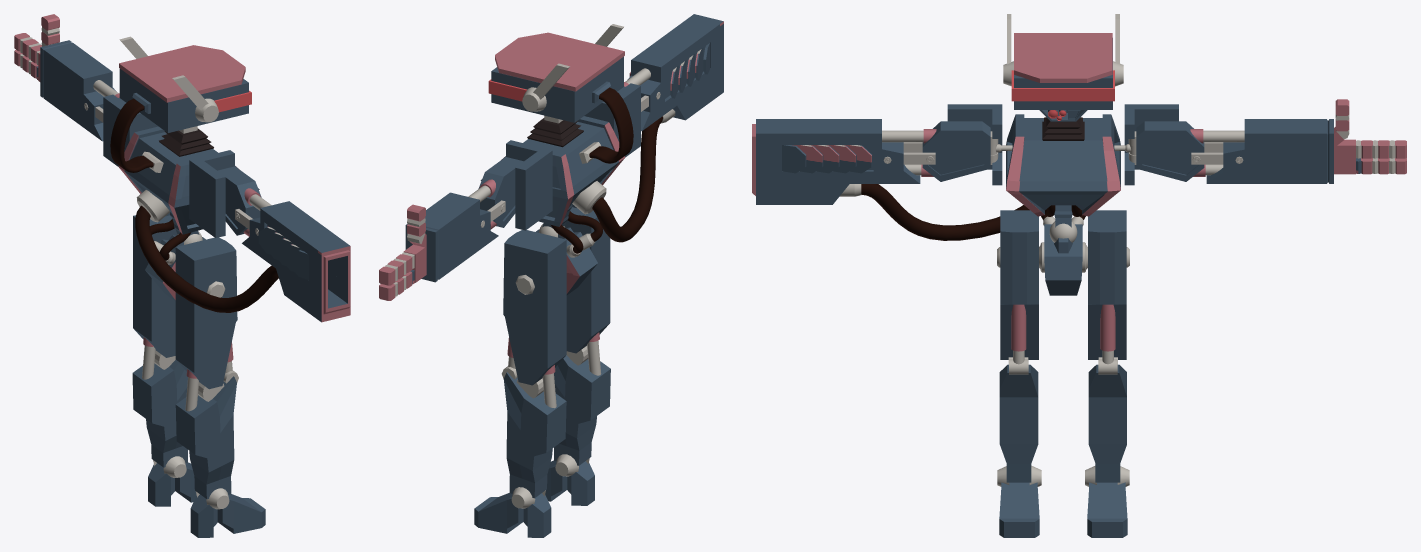
Rendered from Adam_Complete_NoRig.fbx.
3 views of the same model, side by side, from view 1: azimuth 30°, elevation 25°; view 2: azimuth 150°, elevation 25°; view 3: azimuth 270°, elevation 25° (orthographic). The views are drawn at different scales.
Visible parts, largest first — view 1: Cube.017, Cube.028, Cube.018, Forearm, Cube.029, Cube.004, Cube.019, Cube.023, Blaster_Cable, Cube.008, Cube, Anarm.001 (+13 smaller); view 2: Cube.023, Cube.028, Cube.019, Cube.029, Forearm, Cube.004, Cube.018, Cube.017, Cube.011, Cube, Blaster_Cable, Anarm (+15 smaller); view 3: Cube.004, Cube.028, Forearm, Cube.017, Cube.023, Cube.029, Cube.018, Cube.019, Anarm, Anarm.001, Blaster_Cable, Cube.005 (+7 smaller).
Part boxes in pixels (box(x1,y1,x2,y2)): Cube.017: box(175, 237, 237, 389); Cube.028: box(242, 201, 350, 322); Cube.018: box(175, 376, 236, 499); Forearm: box(40, 40, 116, 141); Cube.029: box(119, 45, 245, 102); Cube.004: box(118, 126, 259, 234); Cube.019: box(132, 360, 187, 467); Cube.023: box(133, 215, 177, 357); Blaster_Cable: box(135, 205, 278, 312); Cube.008: box(189, 150, 234, 237); Cube: box(119, 68, 248, 132); Anarm.001: box(217, 166, 261, 235); Cube.023: box(503, 230, 566, 385); Cube.028: box(627, 14, 723, 131); Cube.019: box(503, 372, 566, 498); Cube.029: box(495, 32, 624, 91); Forearm: box(405, 192, 498, 282); Cube.004: box(480, 116, 625, 226); Cube.018: box(554, 355, 610, 465); Cube.017: box(565, 207, 610, 353); Cube.011: box(506, 140, 552, 230); Cube: box(491, 56, 623, 122); Blaster_Cable: box(592, 116, 662, 242); Anarm: box(478, 157, 523, 227); Cube.004: box(1006, 114, 1120, 216); Cube.028: box(752, 119, 920, 204); Forearm: box(1206, 119, 1333, 183); Cube.017: box(1000, 210, 1038, 359); Cube.023: box(1088, 210, 1126, 359); Cube.029: box(1014, 33, 1112, 82); Cube.018: box(999, 364, 1038, 482); Cube.019: box(1088, 364, 1126, 482); Anarm: box(1136, 121, 1204, 181); Anarm.001: box(922, 121, 990, 181); Blaster_Cable: box(861, 184, 1029, 240); Cube.005: box(1044, 224, 1082, 295).
Bounding box in the file's own units: 223 × 1013 × 818.
